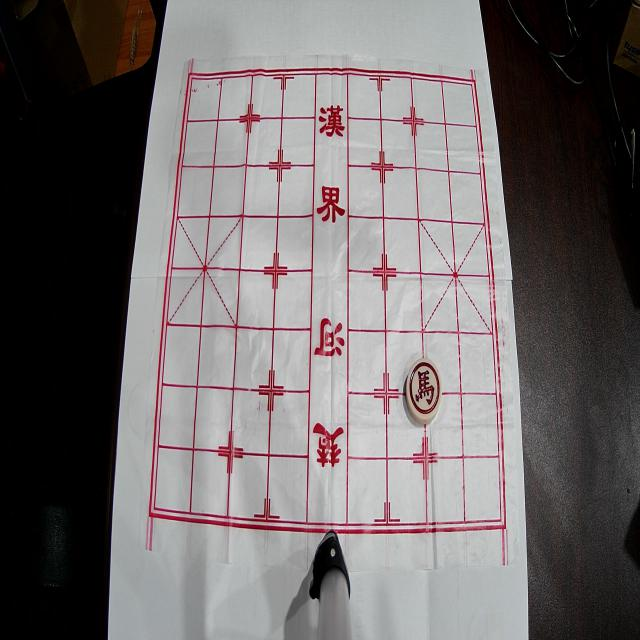red-horse: (406, 358, 442, 424)
